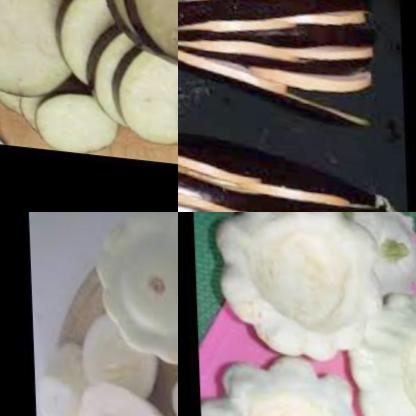eggplant: (0, 0, 178, 177), (178, 0, 375, 137), (178, 94, 397, 212)
squash-patisson: (205, 212, 388, 366), (96, 212, 178, 370), (197, 352, 381, 416), (316, 212, 416, 325), (62, 306, 152, 416), (345, 282, 416, 416), (34, 329, 100, 416), (74, 374, 178, 416)
